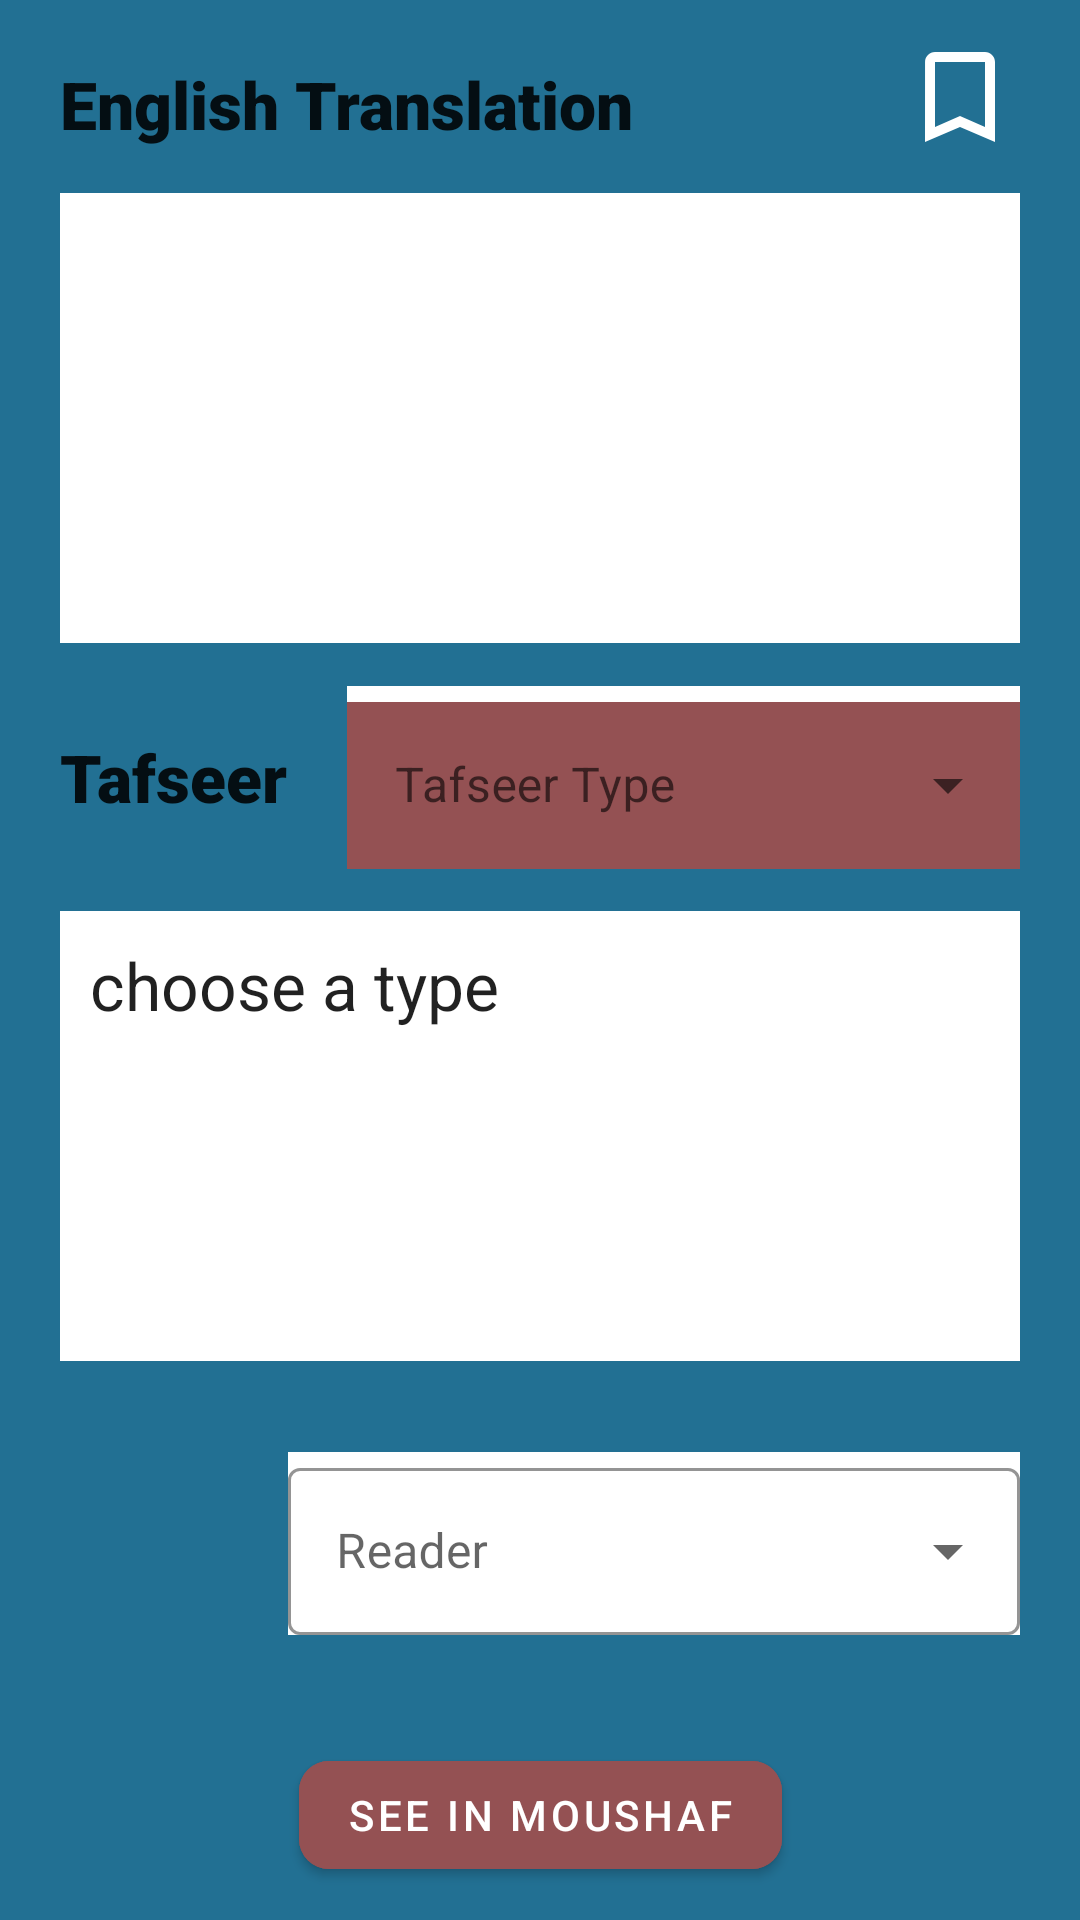

Icon bounding boxes for this 1080x1920 phone screenshot, format box(x1, y1, x2, y2):
empty bookmark: box(925, 52, 995, 142)
